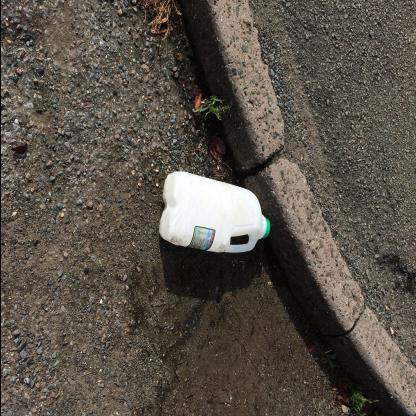plastik: (159, 172, 273, 255)
